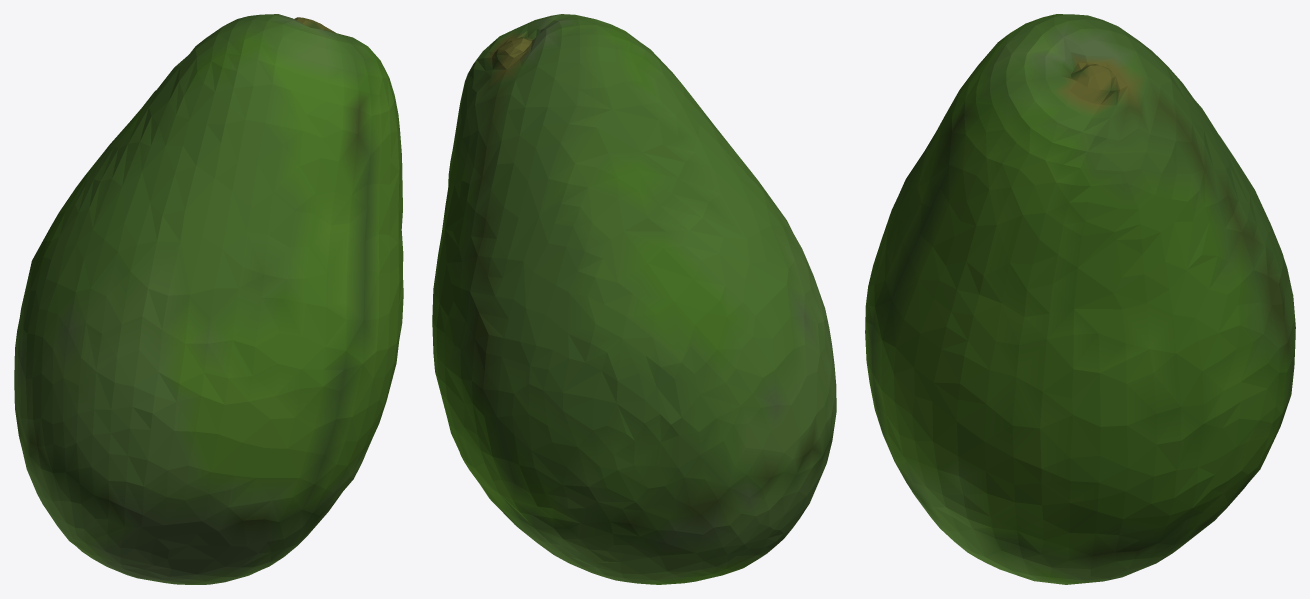
The model's file is avocado.glb.
3 renders of one model, left to right at view 1: azimuth 30°, elevation 25°; view 2: azimuth 150°, elevation 25°; view 3: azimuth 270°, elevation 25°, orthographic. The views are drawn at different scales.
Parts seen in each view (by area): view 1: geometry_0; view 2: geometry_0; view 3: geometry_0.
Part boxes in pixels (x1,y1,x2,y2): geometry_0: [14, 14, 403, 584]; geometry_0: [432, 14, 836, 584]; geometry_0: [865, 14, 1295, 584].
Bounding box in the file's own units: 0.8139 × 1.18 × 0.7846.
